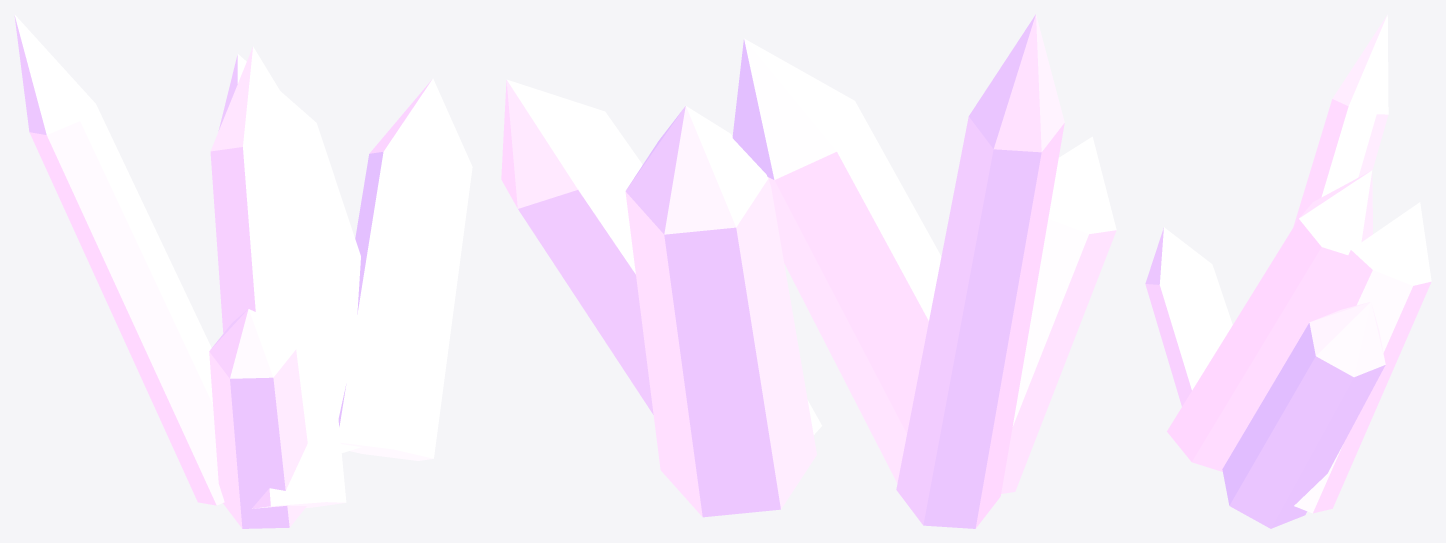
File: crystal_b.glb
The picture shows the model from 3 angles, left to right: view 1: azimuth 30°, elevation 25°; view 2: azimuth 150°, elevation 25°; view 3: azimuth 270°, elevation 25°; orthographic projection. The views are drawn at different scales.
Visible parts, largest first — view 1: crystal_b; view 2: crystal_b; view 3: crystal_b.
Boxes of the visible parts, x1,y1,x2,y2 form: crystal_b: (14,14,472,528); crystal_b: (501,14,1116,528); crystal_b: (1145,14,1431,528).
Bounding box in the file's own units: 0.275 × 0.295 × 0.1993.
